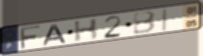2: (103, 15, 123, 40)
A: (42, 23, 68, 47)
B: (131, 10, 157, 36)
F: (20, 24, 44, 51)
H: (73, 17, 100, 44)
I: (160, 7, 169, 34)
